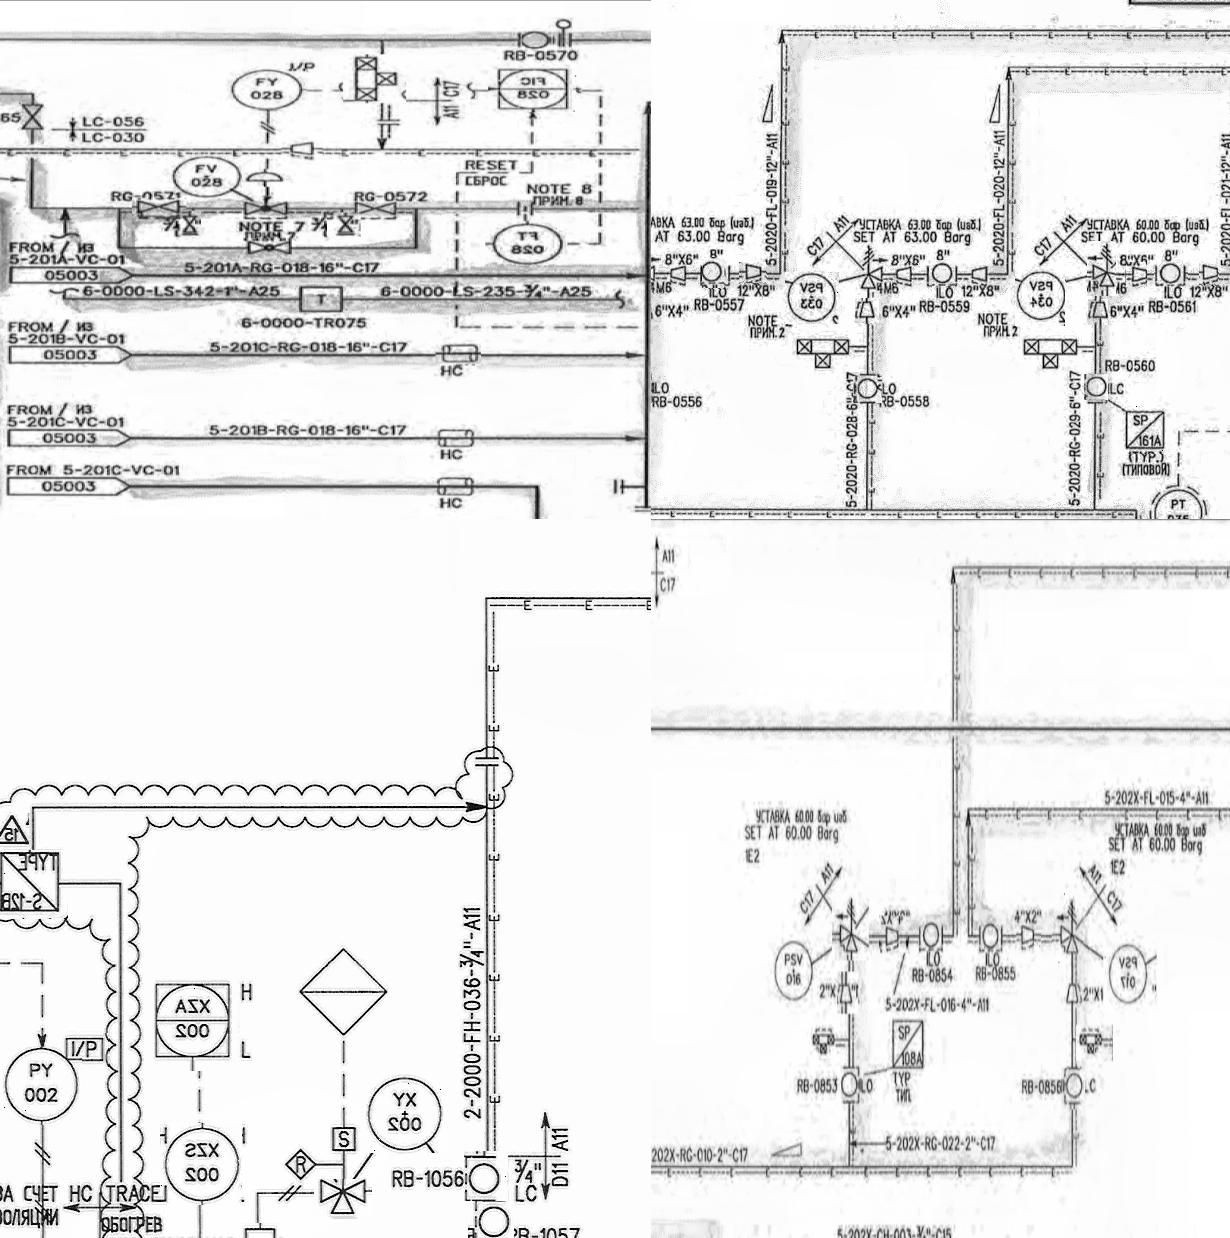2 WAY VALVE: (344, 54, 405, 103), (790, 333, 858, 371), (1022, 335, 1082, 369)
3 WAY GENERAL VALVE: (315, 1181, 374, 1219)
ANGLE RELIEF VALVE: (1087, 242, 1116, 299), (858, 240, 886, 295), (651, 235, 661, 293)
BLIND SPADE OPEN: (550, 17, 577, 50)
CONCENTRIC REDUCER: (892, 262, 922, 286), (283, 141, 323, 158), (856, 299, 881, 326), (965, 262, 992, 286), (740, 262, 768, 285), (1088, 300, 1108, 327), (1126, 262, 1147, 287), (1200, 262, 1220, 287), (665, 266, 694, 282)
DCS ACCESSIBLE: (154, 976, 238, 1071), (490, 64, 579, 114)
DUPLEX RECEPTACLE: (429, 426, 482, 449), (430, 473, 482, 497), (435, 342, 481, 367)
END CAP: (247, 169, 288, 187)
END FLANGED: (371, 117, 403, 126)
FIELD INSTRUMENT: (360, 1071, 446, 1154), (160, 1123, 242, 1205), (5, 1048, 83, 1126), (167, 154, 250, 201), (485, 221, 568, 266), (228, 69, 307, 110), (1016, 270, 1067, 328), (785, 271, 839, 324), (1146, 481, 1218, 519), (464, 1151, 508, 1201), (467, 1201, 514, 1238), (1155, 262, 1188, 291), (853, 376, 882, 403), (703, 258, 727, 290), (1084, 375, 1108, 402), (524, 29, 554, 51), (932, 261, 955, 288)
GATE VALVE: (132, 198, 186, 217), (19, 100, 47, 132), (349, 199, 400, 216), (328, 213, 360, 237), (182, 211, 204, 235)
GLOBE VALVE: (237, 198, 298, 221), (246, 238, 295, 253)
HARDWIRED INTERLOCK FIELD: (279, 1145, 321, 1181)
HARDWIRED INTERLOCK PRIMARY.: (294, 937, 392, 1039)
IP CONVERTER: (64, 1033, 110, 1067)
REVISION TRIANGLE: (0, 813, 32, 847)
SPECIAL PIPING ITEM: (0, 850, 68, 919), (1122, 407, 1170, 454)
SPEED FLOW METER: (330, 1123, 358, 1157)
